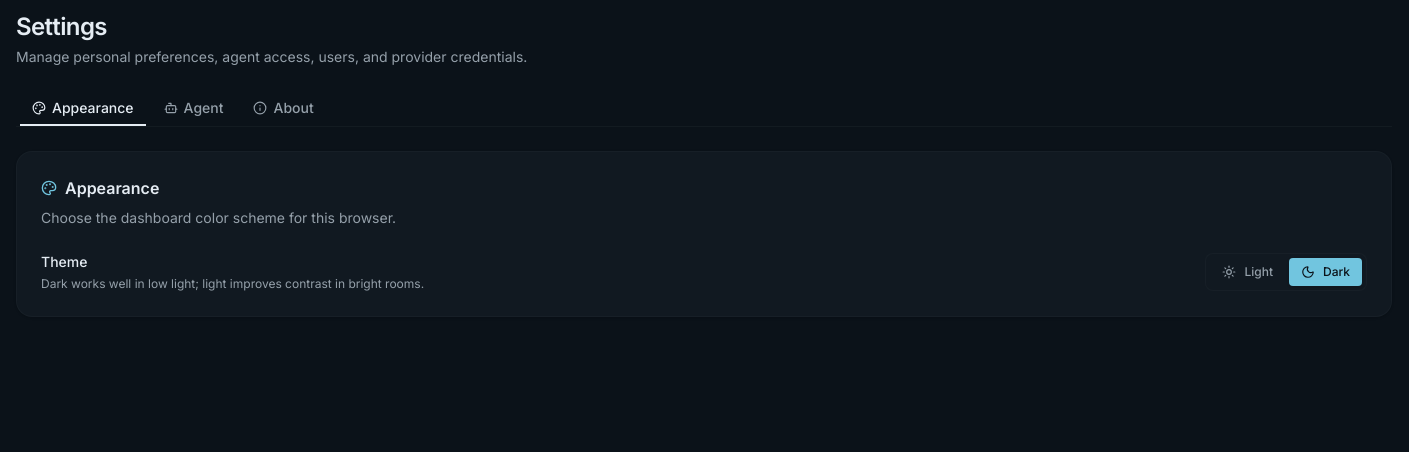
Scenario: Settings page › surfaces live data-source providers from /api/v1/health
Step 1. Click the tab with test id "settings-tab-about" → (284, 108), box [240, 94, 327, 122]
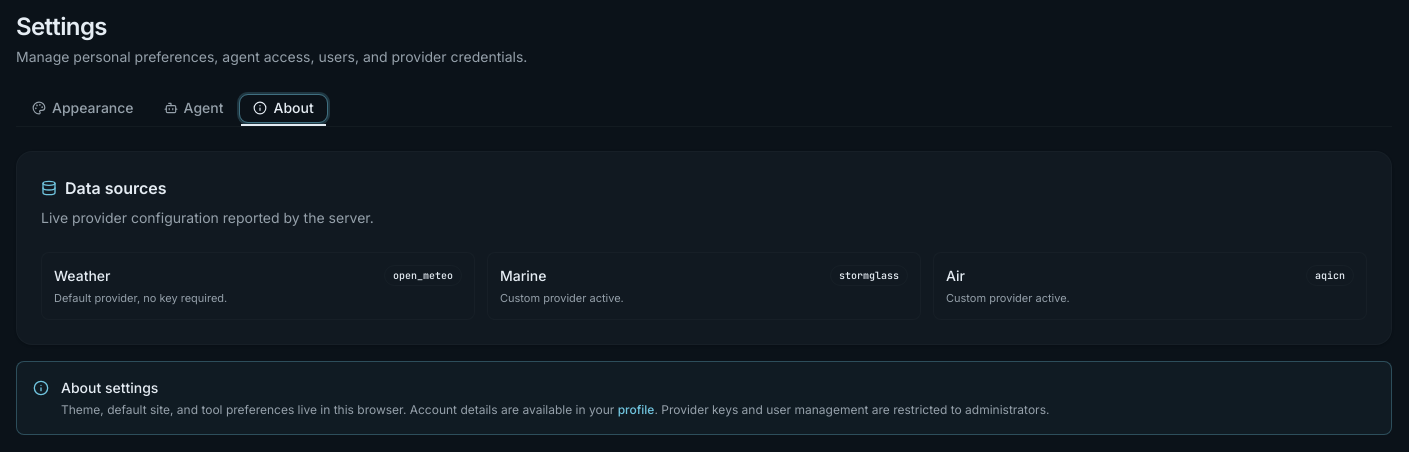
Result: the element with test id "settings-providers" is shown at [16, 151, 1392, 344]
Result: the element with test id "provider-status-weather" shows "Default" at [54, 291, 227, 305]
Result: the element with test id "provider-status-marine" shows "Custom" at [500, 291, 624, 305]
